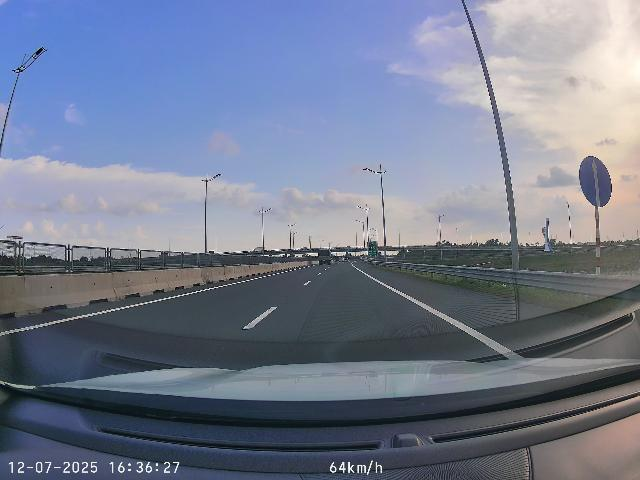301a-cac-xe-chi-duoc-di-thang: (579, 155, 613, 208)
